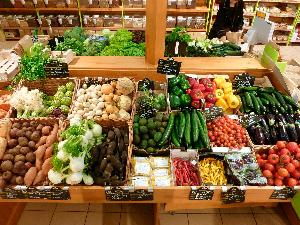avocado: (132, 112, 168, 152)
bell_pepper: (166, 76, 200, 110), (202, 76, 234, 110), (174, 150, 198, 184), (201, 157, 229, 183)
cucumber: (168, 110, 206, 148)
eggplant: (248, 113, 300, 143)
tomato: (255, 142, 300, 186), (207, 115, 247, 147)
zucchini: (240, 82, 300, 114)
